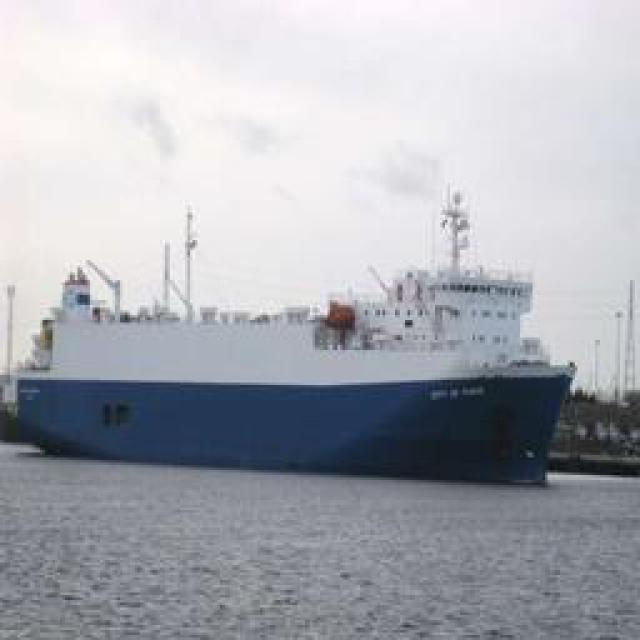Ship: (24, 203, 579, 478)
